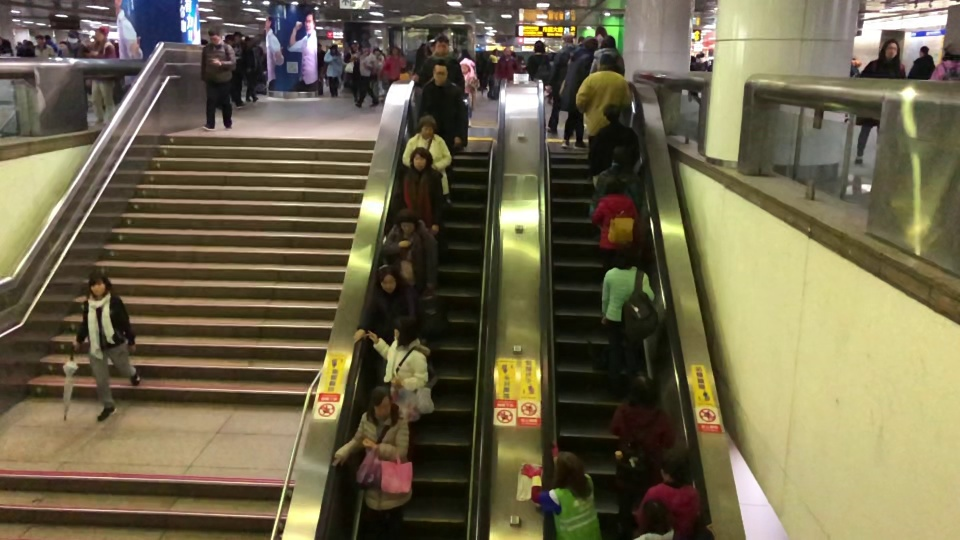person_head: (658, 444, 696, 480), (640, 496, 671, 532), (554, 451, 585, 484), (627, 376, 656, 405), (369, 385, 393, 418), (392, 315, 418, 344), (87, 269, 114, 296), (377, 265, 401, 292), (613, 243, 636, 270), (409, 146, 433, 169), (418, 113, 438, 139), (396, 207, 416, 231), (430, 60, 449, 84), (610, 147, 631, 167), (601, 104, 621, 124), (882, 39, 900, 59), (604, 175, 624, 192), (941, 42, 959, 59), (434, 35, 449, 55), (597, 53, 615, 69), (208, 25, 222, 43), (94, 25, 108, 41), (583, 35, 598, 49), (600, 35, 615, 48), (533, 39, 545, 53), (560, 32, 572, 45), (68, 30, 79, 44), (459, 47, 469, 58), (918, 45, 928, 55), (362, 45, 371, 56), (231, 32, 242, 41), (503, 46, 510, 57), (251, 39, 262, 46), (391, 46, 399, 54), (36, 35, 43, 44), (330, 44, 337, 52), (351, 41, 359, 48), (690, 55, 696, 62), (317, 43, 321, 50)
person_vbox: (331, 384, 414, 540), (70, 269, 143, 423), (609, 375, 675, 540), (518, 439, 601, 540), (601, 243, 655, 391), (417, 59, 467, 205), (853, 39, 905, 166), (632, 444, 699, 537), (592, 175, 643, 283), (575, 53, 633, 143), (352, 265, 417, 343), (365, 315, 430, 393), (381, 207, 439, 292), (560, 35, 599, 150), (401, 113, 453, 198), (588, 103, 640, 187), (396, 146, 444, 235), (200, 24, 238, 131), (633, 496, 716, 540), (590, 147, 643, 209), (88, 25, 118, 123), (412, 34, 463, 91), (545, 32, 573, 135), (355, 44, 380, 109), (227, 32, 248, 109), (589, 34, 624, 75), (245, 39, 267, 102), (928, 42, 960, 80), (323, 43, 343, 99), (527, 39, 550, 84), (343, 40, 359, 104), (907, 45, 936, 80), (458, 48, 476, 99), (494, 45, 520, 79), (381, 46, 405, 82), (62, 30, 85, 58), (33, 34, 55, 57), (317, 44, 325, 80), (0, 37, 14, 57), (850, 57, 860, 78), (690, 56, 700, 70)
